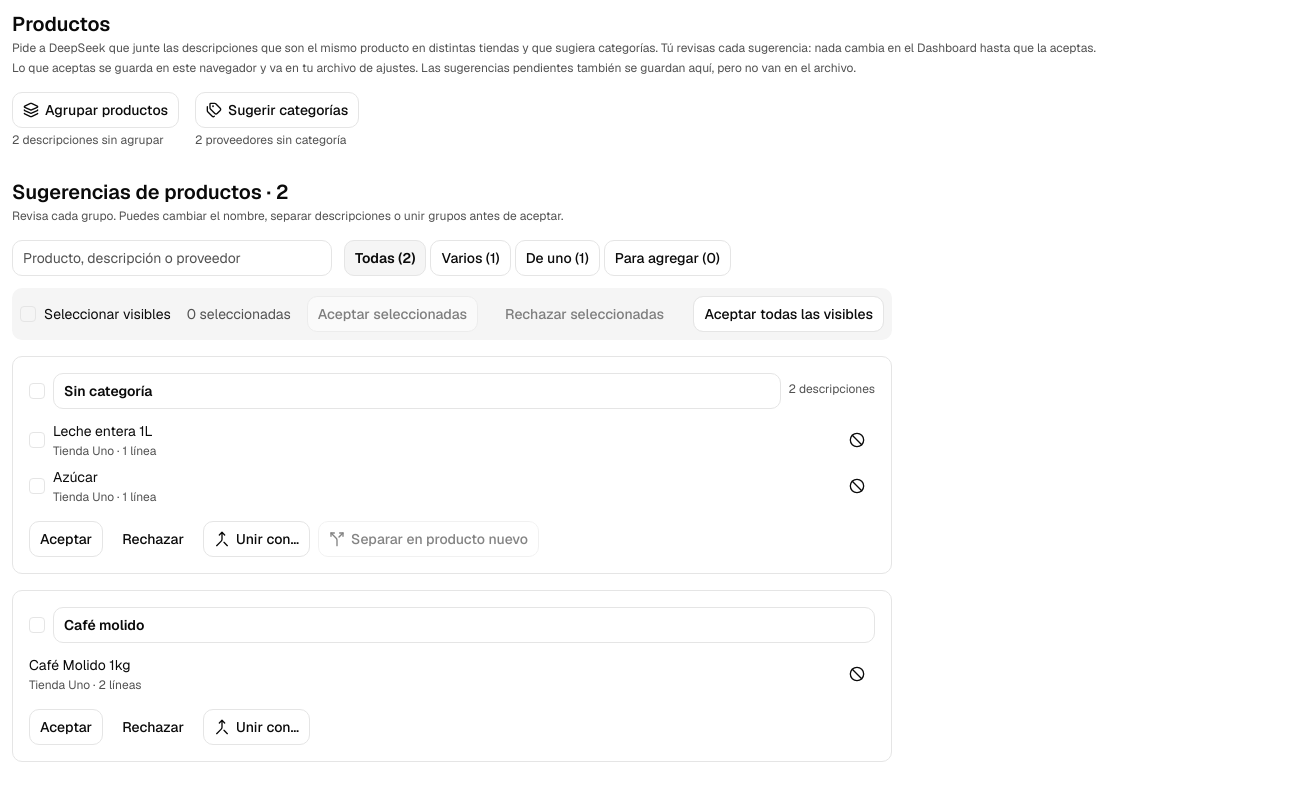
Test: E4: a refused accept keeps the card and says why › the reserved name
Click the button with aria-label "Aceptar la sugerencia": (66, 539) [29,521,103,557]
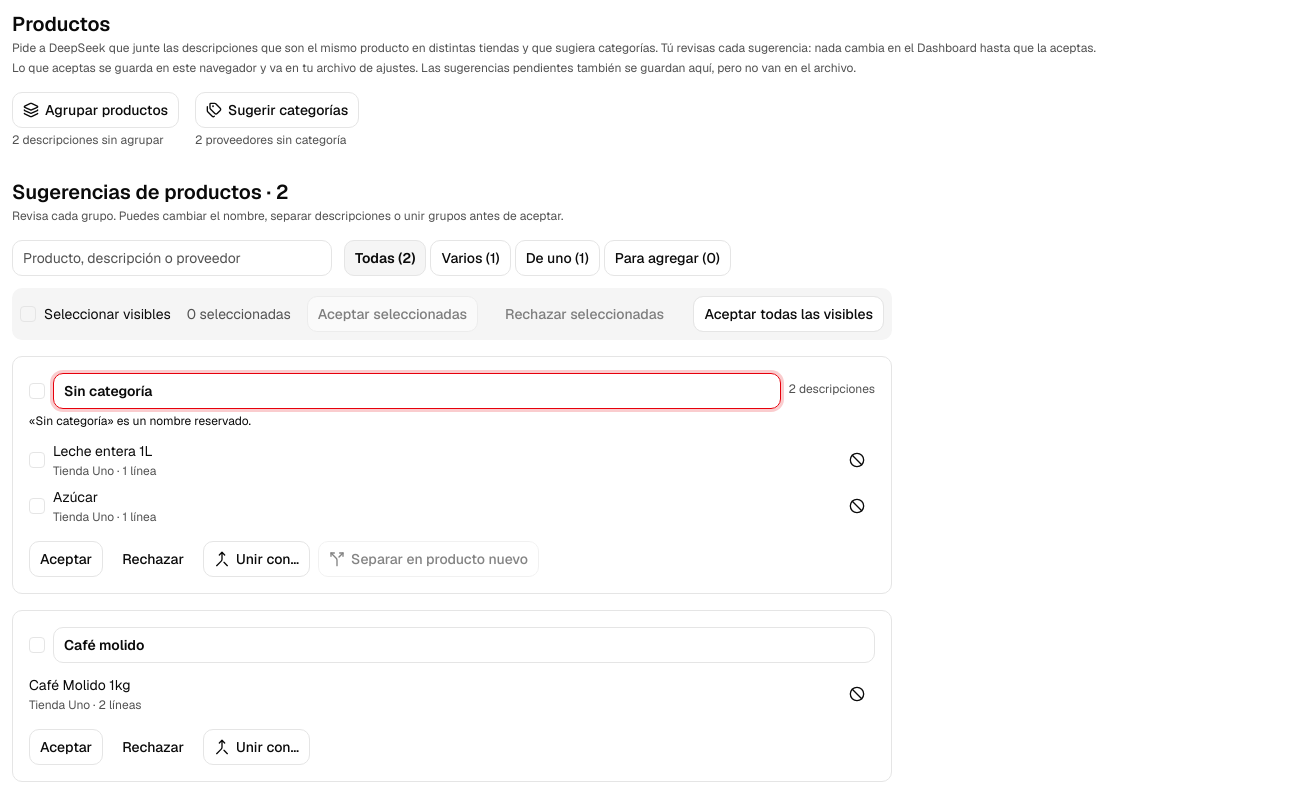
Expected: the text "«Sin categoría» es un nombre reservado." is shown, [29,413,251,429]
